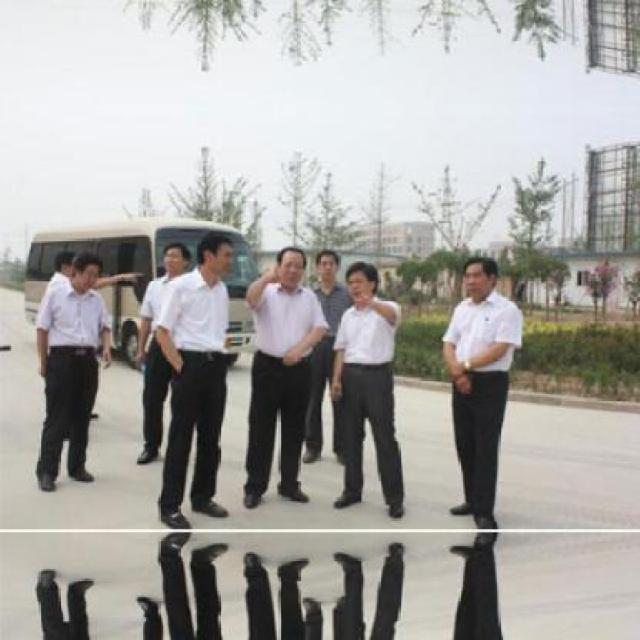no_helmet: (196, 227, 236, 276), (342, 257, 380, 305), (460, 251, 497, 297), (274, 242, 309, 286), (66, 246, 102, 286), (158, 237, 190, 274), (314, 243, 340, 285), (51, 243, 72, 277)
